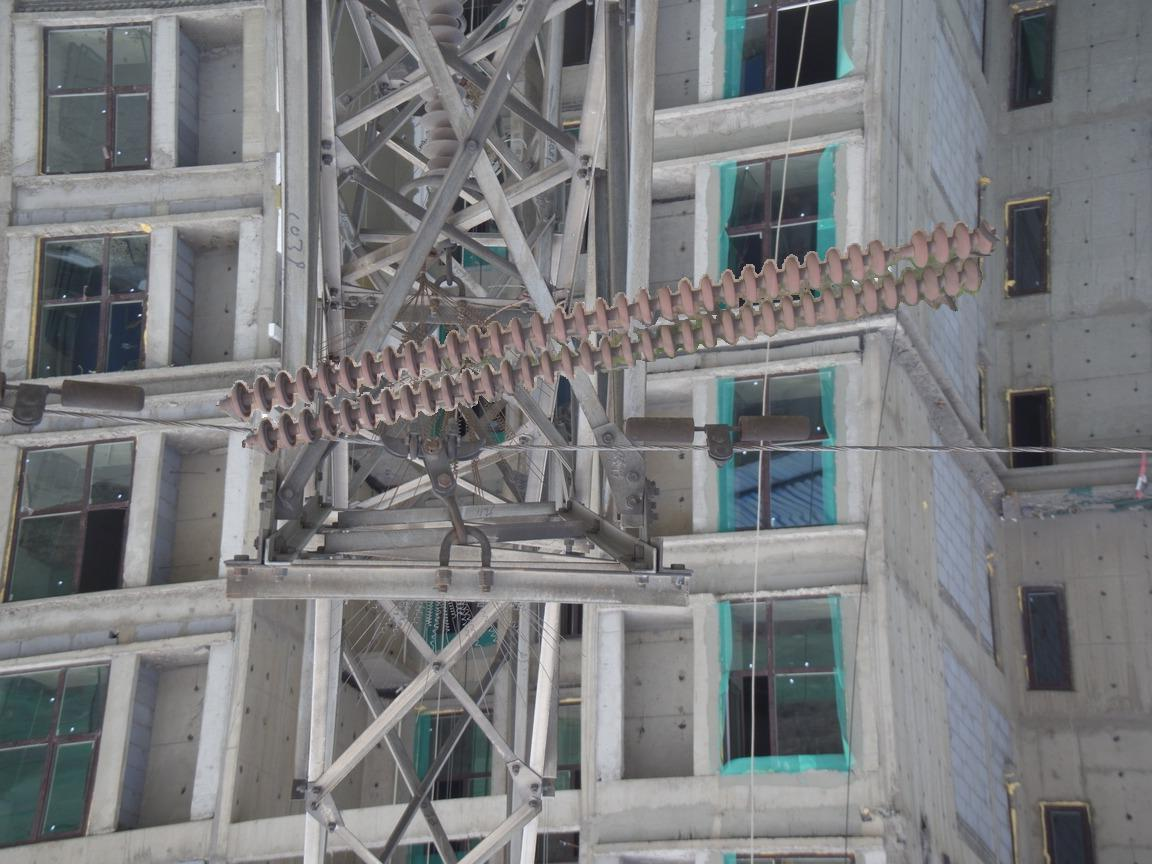insulator: (228, 214, 1000, 453), (414, 1, 470, 195)
insulator_stringdrop: (865, 229, 932, 280)
